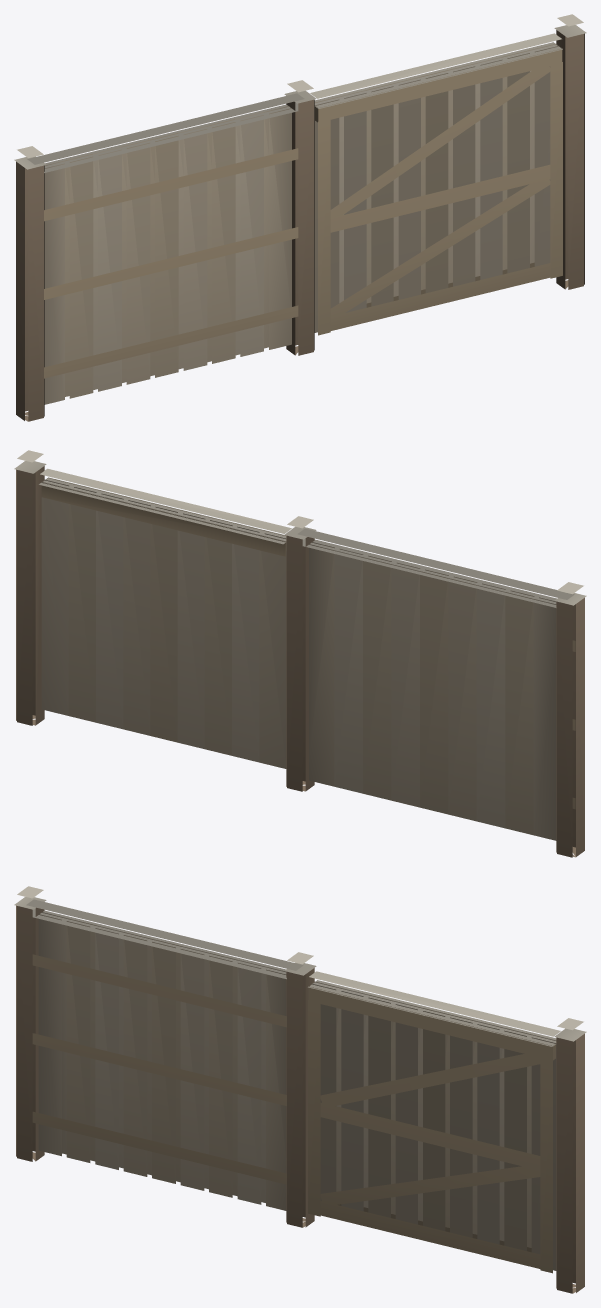
Rendered from fence.lod.glb.
3 views of the same model, one above another, from view 1: azimuth 30°, elevation 25°; view 2: azimuth 150°, elevation 25°; view 3: azimuth 330°, elevation 25° (orthographic).
Visible parts, largest first — view 1: fence.001; view 2: fence.001; view 3: fence.001.
Boxes of the visible parts, x1,y1,x2,y2 form: fence.001: (14,14,586,421); fence.001: (14,450,586,857); fence.001: (14,886,586,1293).
Bounding box in the file's own units: 4 × 1.8 × 0.164.
